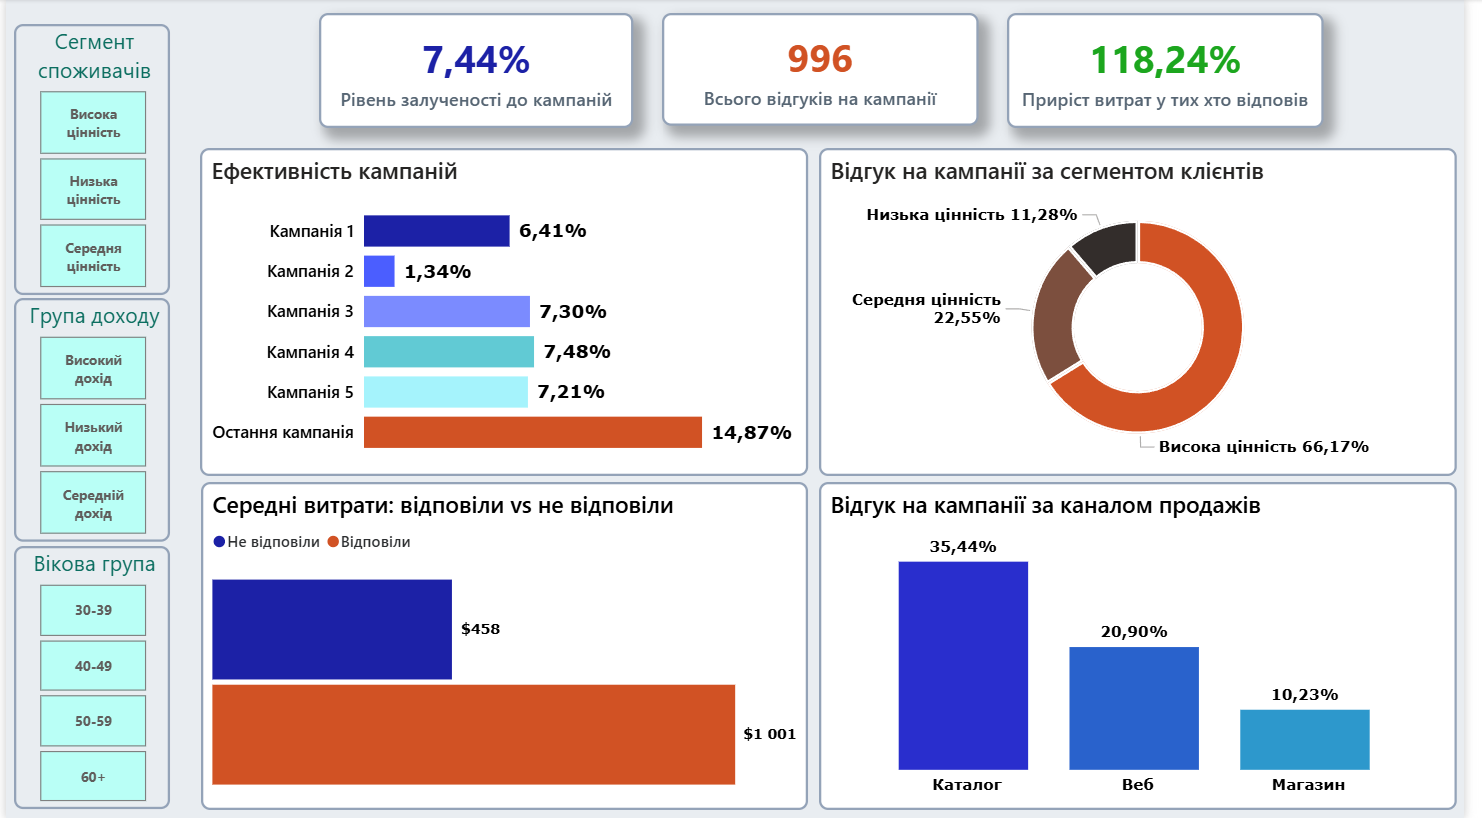

This screenshot's page, from the dashboard's own definition file:
{"tool":"powerbi","page":{"name":"Ефективність_маркетингових_кампаній_ua","canvas":[1280,720],"ordinal":3},"visuals":[{"type":"card","fields":{"Values":["_Measures.Campaign Engagement Rate (Universal)"]},"box":[275,11.9,276.4,100.6],"z":0},{"type":"card","fields":{"Values":["_Measures.Total Campaigns Accepted (Universal)"]},"box":[576.3,11.9,277.6,99],"z":1000},{"type":"card","title":"Marketing Impact on Spending","fields":{"Values":["_Measures.Marketing Impact %"]},"box":[878.7,11.9,277.8,100.6],"z":2000},{"type":"clusteredBarChart","title":"Середні витрати: відповіли vs не відповіли","fields":{"Y":["_Measures.Non Responders Avg Spending (Virtual)","_Measures.Responders Avg Spending (Virtual)"]},"box":[171.5,423.8,532.9,287.7],"z":3000},{"type":"donutChart","title":"Відгук на кампанії за сегментом клієнтів","fields":{"Category":["marketing_campaign_features.Customer Segment UA"],"Y":["_Measures.Segment Response Rate (Virtual)"]},"box":[714,130.7,559.8,287.7],"z":4000},{"type":"clusteredColumnChart","title":"Відгук на кампанії за каналом продажів","fields":{"Y":["_Measures.Channel Response Rate (Virtual)"],"Category":["marketing_campaign_features.Preferred Channel UA"]},"box":[714,424.1,559.8,287.7],"z":5000},{"type":"slicer","title":"Сегмент споживачів","fields":{"Values":["marketing_campaign_features.Customer Segment UA"]},"box":[7.1,21.7,137.5,238.1],"z":6000},{"type":"slicer","title":"Група доходу","fields":{"Values":["marketing_campaign_features.Income Group UA"]},"box":[7.1,262.6,137.5,214],"z":7000},{"type":"slicer","title":"Вікова група","fields":{"Values":["marketing_campaign_features.Age Group"]},"box":[7.1,480.5,137.5,231],"z":8000},{"type":"clusteredBarChart","title":"Ефективність кампаній","fields":{"Y":["_Measures.Avg Response Rate"],"Category":["Campaign_Unpivoted.Campaign Name UA"]},"box":[170.3,130.5,534.4,288.3],"z":9000}]}

Visuals, with their boxes in screenshot pixels (x1, y1, x2, y2), scaled from the page's 1280x720 canvas onto the 1482x818 screenshot:
card - _Measures.Campaign Engagement Rate (Universal): (318, 14, 638, 128)
card - _Measures.Total Campaigns Accepted (Universal): (667, 14, 989, 126)
"Marketing Impact on Spending" card: (1017, 14, 1339, 128)
"Середні витрати: відповіли vs не відповіли" clusteredBarChart: (199, 481, 816, 808)
"Відгук на кампанії за сегментом клієнтів" donutChart: (827, 148, 1475, 475)
"Відгук на кампанії за каналом продажів" clusteredColumnChart: (827, 482, 1475, 809)
"Сегмент споживачів" slicer: (8, 25, 167, 295)
"Група доходу" slicer: (8, 298, 167, 541)
"Вікова група" slicer: (8, 546, 167, 808)
"Ефективність кампаній" clusteredBarChart: (197, 148, 816, 476)
